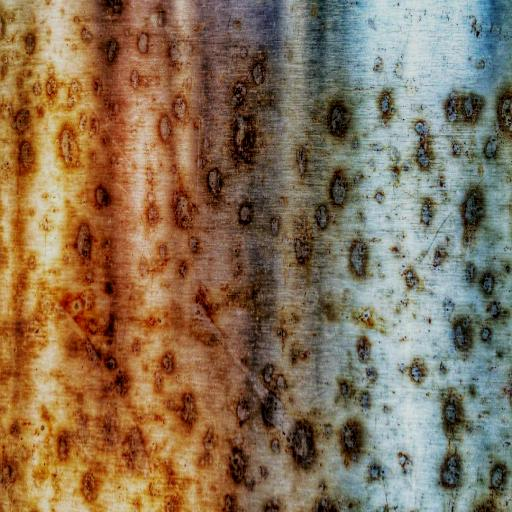segmentation: (1, 7, 485, 511)
